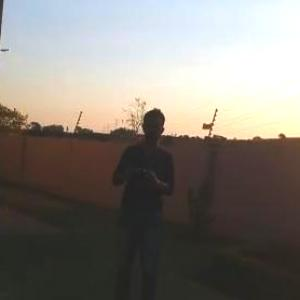follow: (102, 101, 183, 299)
